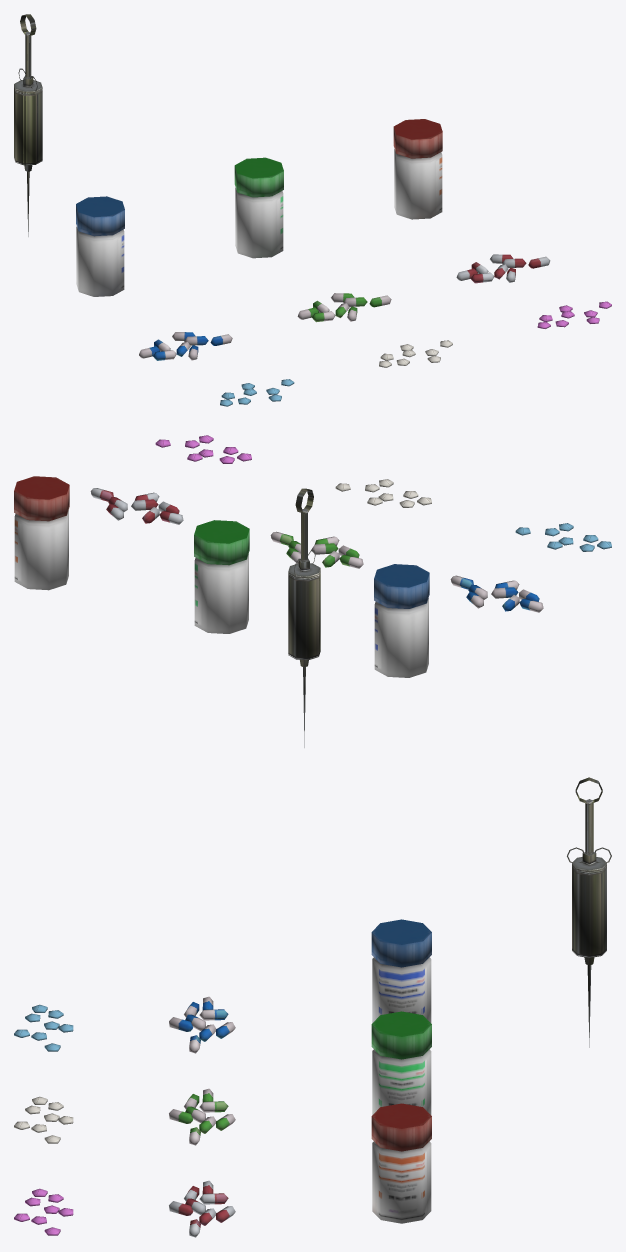
File: Sketchfab_2023_05_27_13_13_57.fbx
3 renders of one model, top to bottom at view 1: azimuth 30°, elevation 25°; view 2: azimuth 150°, elevation 25°; view 3: azimuth 270°, elevation 25°, orthographic. The views are drawn at different scales.
Visible parts, largest first — view 1: PillsLow.001, PillsLow.002, PillsLow, Circle.003, PillsBundle.003, PillsBundle.005, PillsBundle.001, PillsBundle.002, PillsBundle.006, PillsBundle.004; view 2: PillsLow.002, PillsLow.001, PillsLow, Circle.003, PillsBundle.005, PillsBundle.001, PillsBundle.003, PillsBundle.006, PillsBundle.002, PillsBundle.004; view 3: PillsLow.002, PillsLow.001, PillsLow, Circle.003, PillsBundle.005, PillsBundle.001, PillsBundle.003, PillsBundle.002, PillsBundle.004, PillsBundle.006.
Boxes of the visible parts, x1,y1,x2,y2 form: PillsLow.001: (234, 157, 283, 258); PillsLow.002: (393, 119, 442, 219); PillsLow: (76, 196, 124, 296); Circle.003: (14, 14, 42, 236); PillsBundle.003: (297, 293, 391, 322); PillsBundle.005: (456, 254, 550, 283); PillsBundle.001: (139, 332, 232, 360); PillsBundle.002: (220, 379, 294, 406); PillsBundle.006: (537, 301, 611, 328); PillsBundle.004: (379, 340, 452, 367); PillsLow.002: (14, 476, 69, 590); PillsLow.001: (194, 520, 249, 633); PillsLow: (374, 564, 429, 677); Circle.003: (288, 488, 320, 747); PillsBundle.005: (90, 488, 183, 524); PillsBundle.001: (450, 575, 543, 612); PillsBundle.003: (270, 531, 363, 568); PillsBundle.006: (155, 435, 251, 463); PillsBundle.002: (515, 523, 611, 551); PillsBundle.004: (335, 479, 431, 507); PillsLow.002: (371, 1103, 431, 1223); PillsLow.001: (371, 1011, 431, 1114); PillsLow: (371, 919, 431, 1022); Circle.003: (567, 777, 611, 1047); PillsBundle.005: (169, 1180, 235, 1237); PillsBundle.001: (169, 996, 235, 1053); PillsBundle.003: (169, 1088, 235, 1145); PillsBundle.002: (14, 1004, 73, 1051); PillsBundle.004: (14, 1096, 73, 1143); PillsBundle.006: (14, 1188, 73, 1235).
Size of the model in its own units: 358 by 193 by 385.
